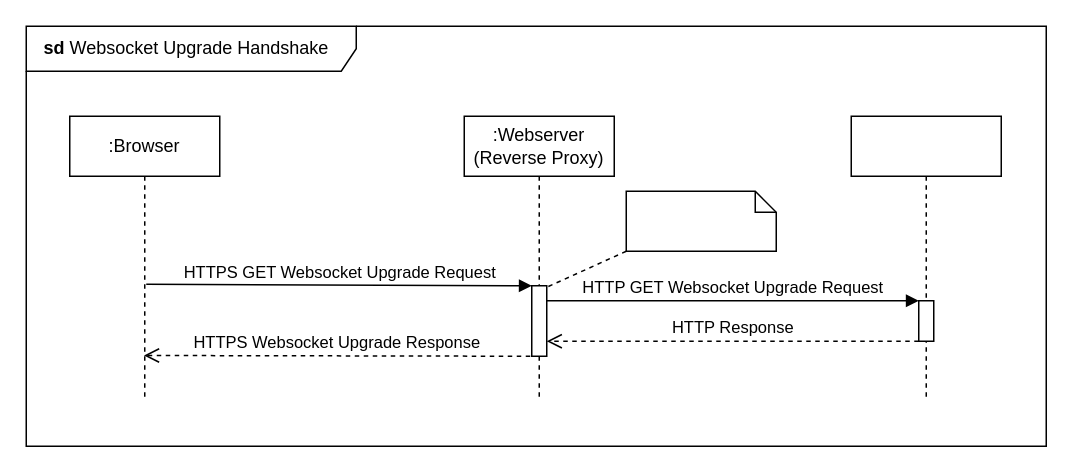
Some shapes in this 1073 by 473 pixel diagram are drawn without their labels. The shapes that lost their labels are listed below. From the top down, each one's box as (x1, y1, x2, y2) in pixels, then its label:
(625, 190, 776, 251): SSL Offloading
(850, 115, 1001, 401): :Netty (Java)
